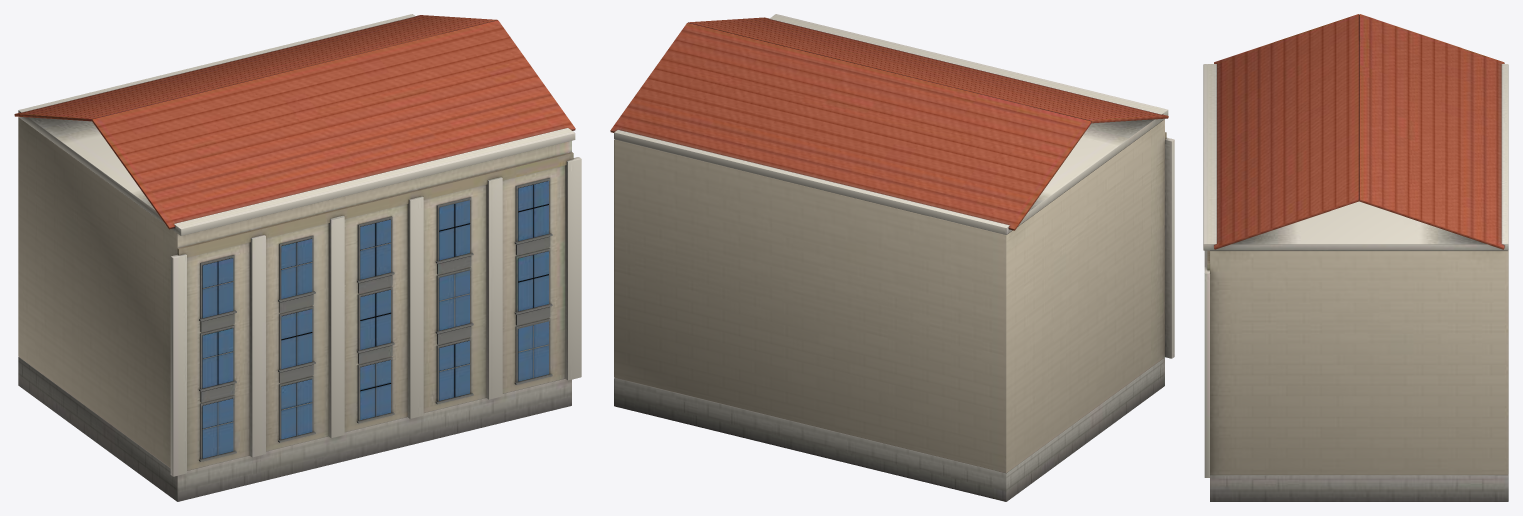
File: justicia.glb
3 renders of one model, left to right at view 1: azimuth 30°, elevation 25°; view 2: azimuth 150°, elevation 25°; view 3: azimuth 270°, elevation 25°, orthographic. The views are drawn at different scales.
Visible parts, largest first — view 1: justicia; view 2: justicia; view 3: justicia.
Boxes of the visible parts, <box> form: justicia: <box>14,14,581,501</box>; justicia: <box>610,14,1174,501</box>; justicia: <box>1203,14,1508,501</box>.
Bounding box in the file's own units: 20.7 × 15.8 × 14.3.
Materials: 1 (1 with a texture image).
